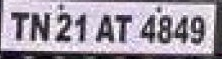character: (29, 12, 52, 43), (113, 12, 134, 44), (93, 13, 115, 42), (9, 10, 29, 41), (189, 15, 206, 47), (54, 12, 72, 42), (140, 12, 157, 43), (174, 14, 191, 44), (157, 14, 173, 45), (72, 12, 87, 43)
